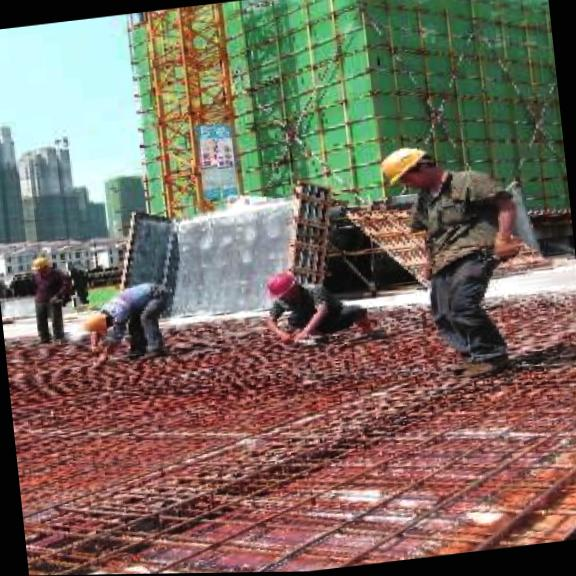no_safety_vest: (420, 172, 514, 274)
